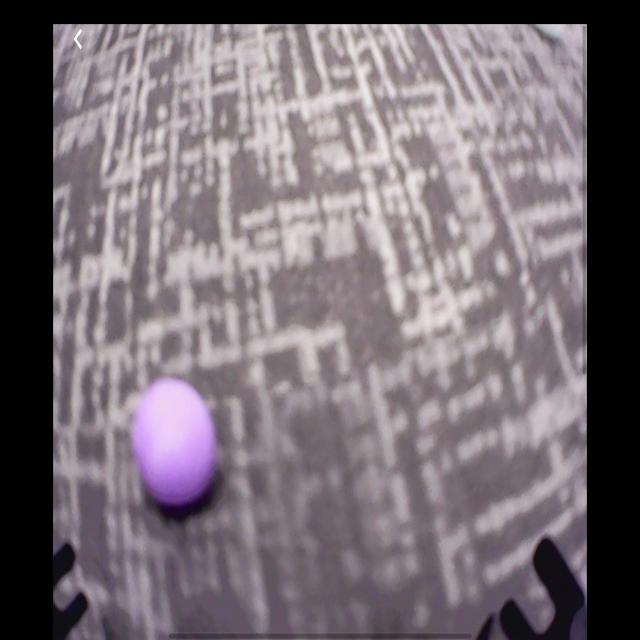ball: (132, 378, 216, 505)
